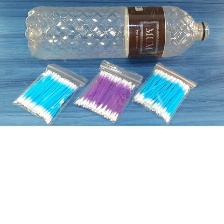bottle: (21, 1, 217, 64)
plastic_bag: (68, 54, 148, 122), (10, 53, 77, 127), (128, 58, 199, 124)
